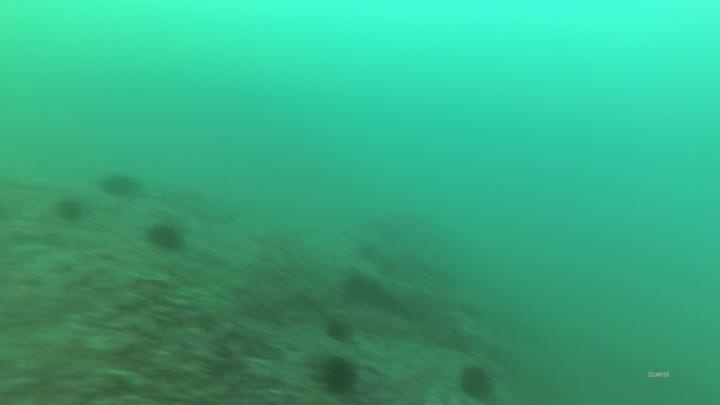echinus: (315, 353, 362, 398), (455, 362, 497, 402), (144, 218, 188, 255), (340, 269, 382, 305), (98, 168, 142, 201), (53, 194, 87, 224), (322, 315, 355, 345)
